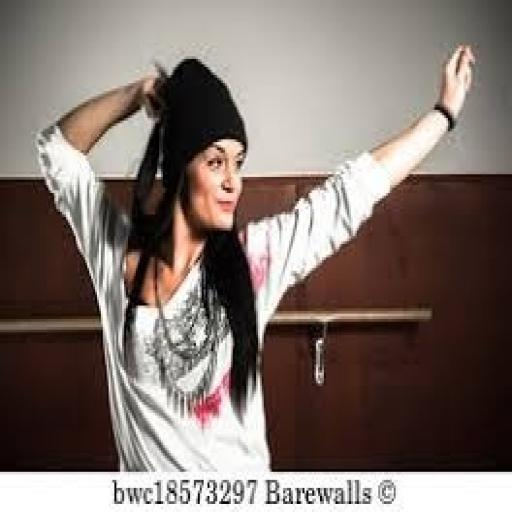dancing: (33, 40, 479, 475)
